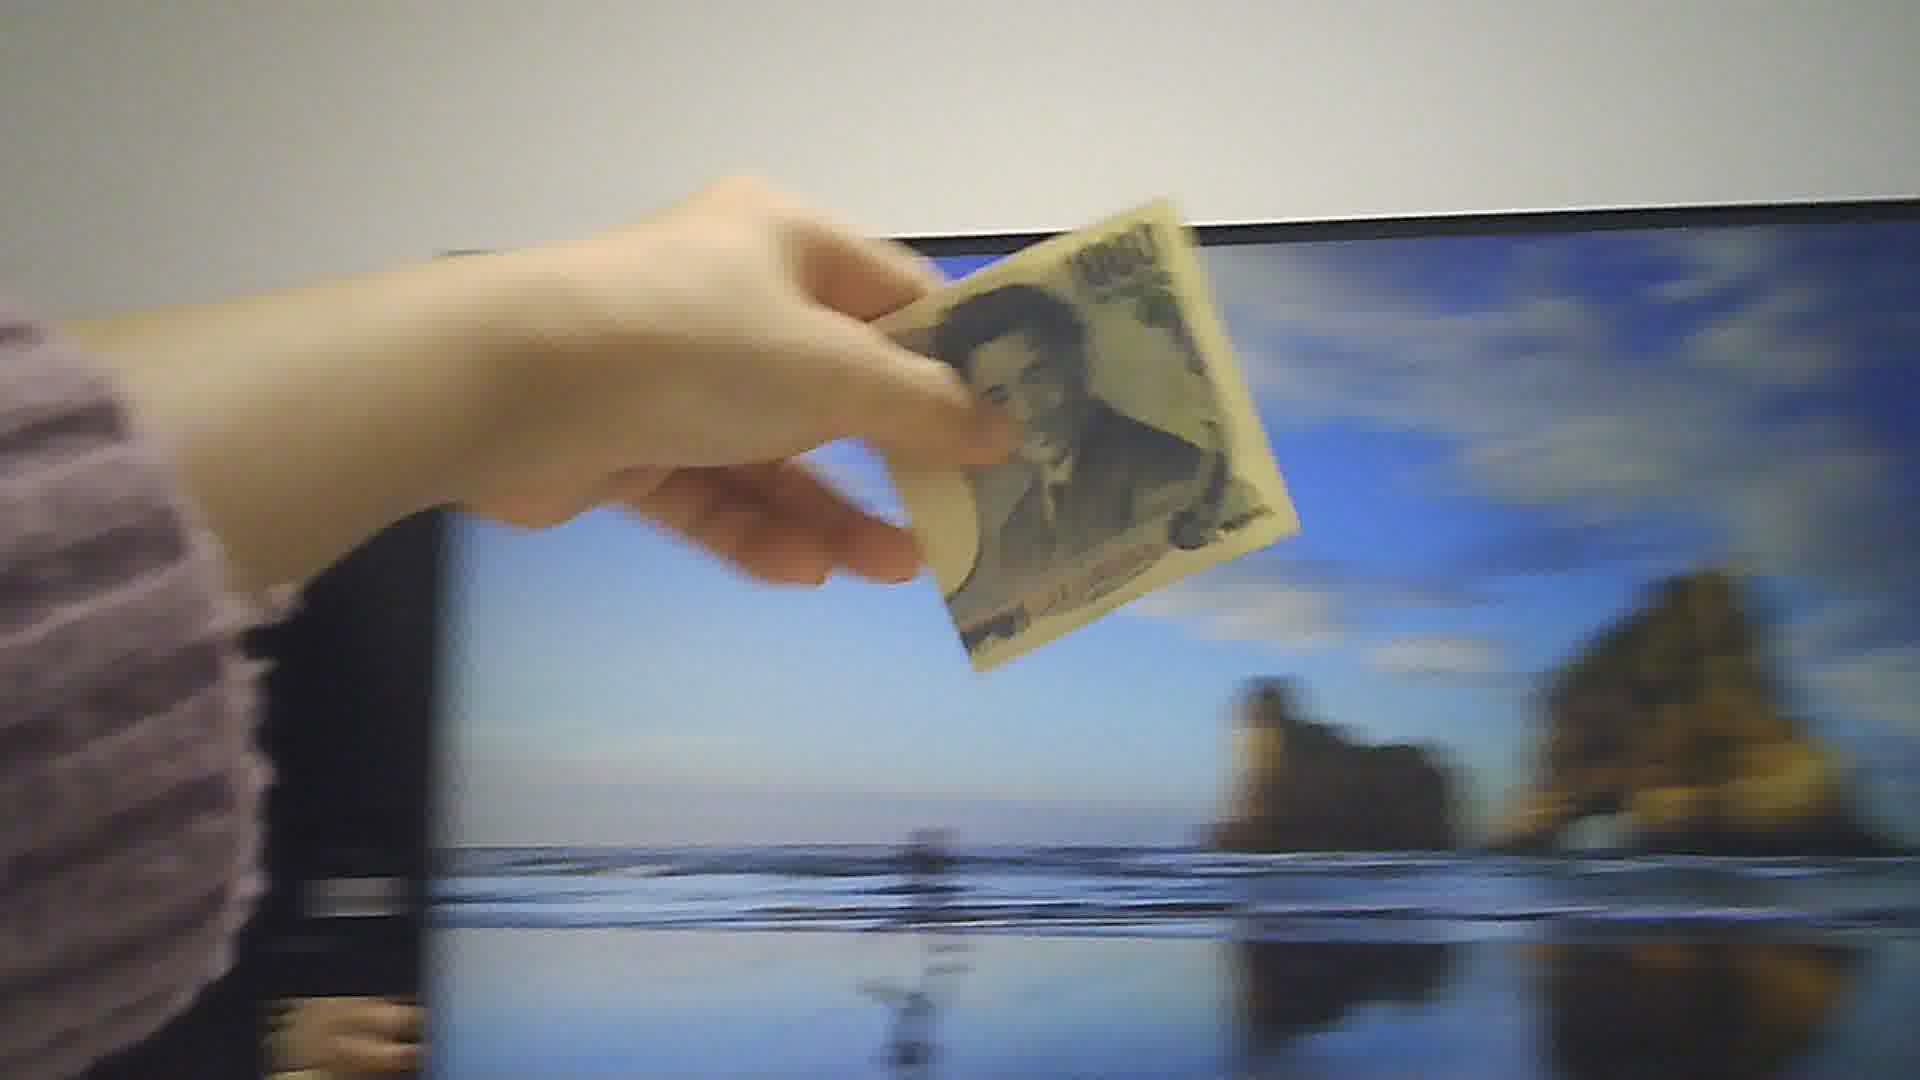1,000 Yen: (829, 211, 1342, 679)
